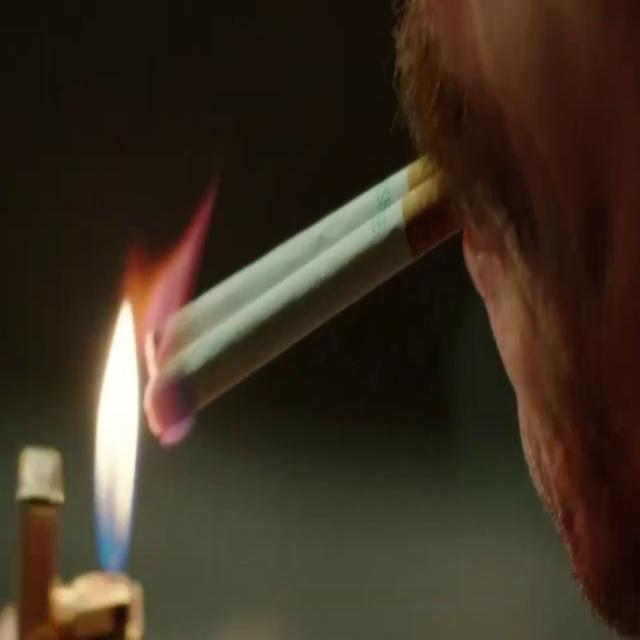Smooking: (136, 141, 494, 456)
